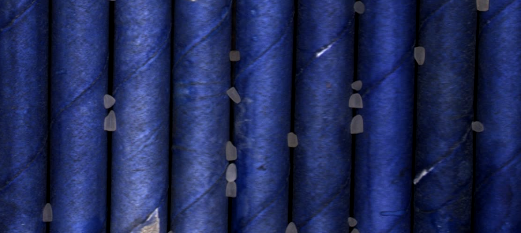broken_grain: (348, 112, 367, 137), (219, 162, 239, 185), (101, 109, 120, 133), (346, 92, 366, 114), (225, 85, 244, 108), (222, 141, 241, 163), (411, 45, 428, 68), (470, 117, 488, 136), (284, 130, 300, 150), (101, 93, 118, 111), (224, 180, 239, 200), (42, 202, 55, 225), (351, 1, 367, 16), (228, 49, 243, 62), (350, 80, 364, 93)
